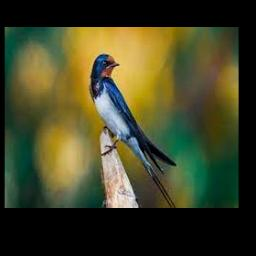Swallow: (91, 54, 176, 208)
